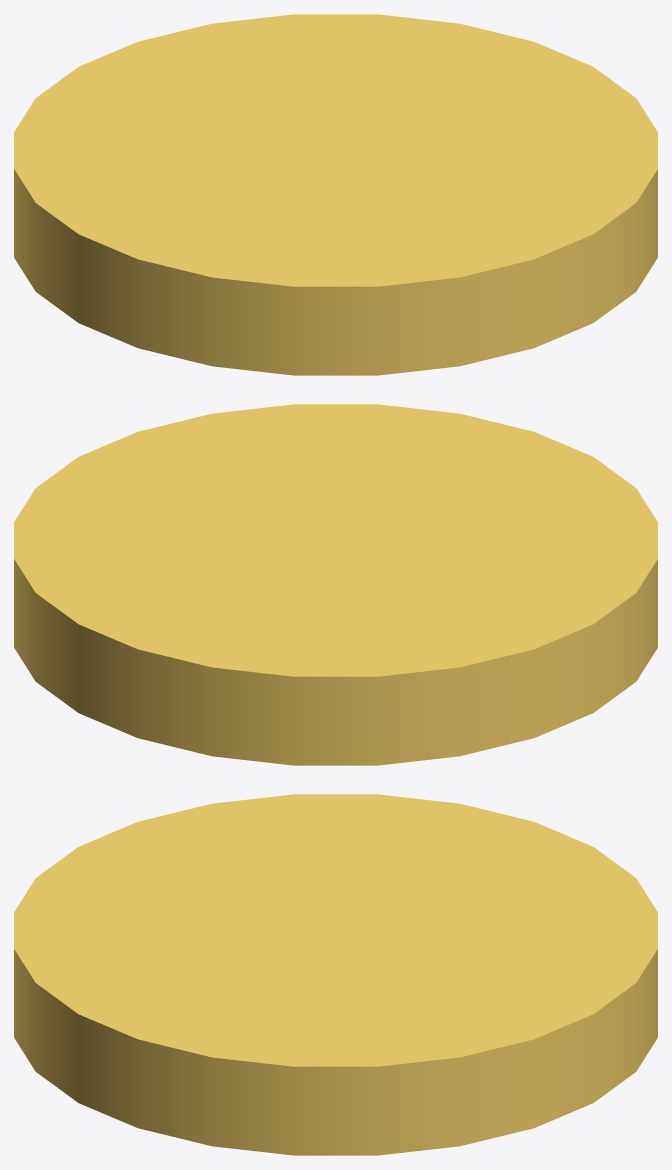
File: SM_FW01_Coin_01.fbx
The picture shows the model from 3 angles, top to bottom: view 1: azimuth 30°, elevation 25°; view 2: azimuth 150°, elevation 25°; view 3: azimuth 270°, elevation 25°; orthographic projection.
Parts seen in each view (by area): view 1: SM_FW01_Coin_01_LOD0; view 2: SM_FW01_Coin_01_LOD0; view 3: SM_FW01_Coin_01_LOD0.
Boxes of the visible parts, x1=… form: SM_FW01_Coin_01_LOD0: x1=14, y1=14, x2=657, y2=375; SM_FW01_Coin_01_LOD0: x1=14, y1=404, x2=657, y2=765; SM_FW01_Coin_01_LOD0: x1=14, y1=794, x2=657, y2=1155.
Size of what is drawn, in the model's own units: 0.108 by 0.0164 by 0.108.
